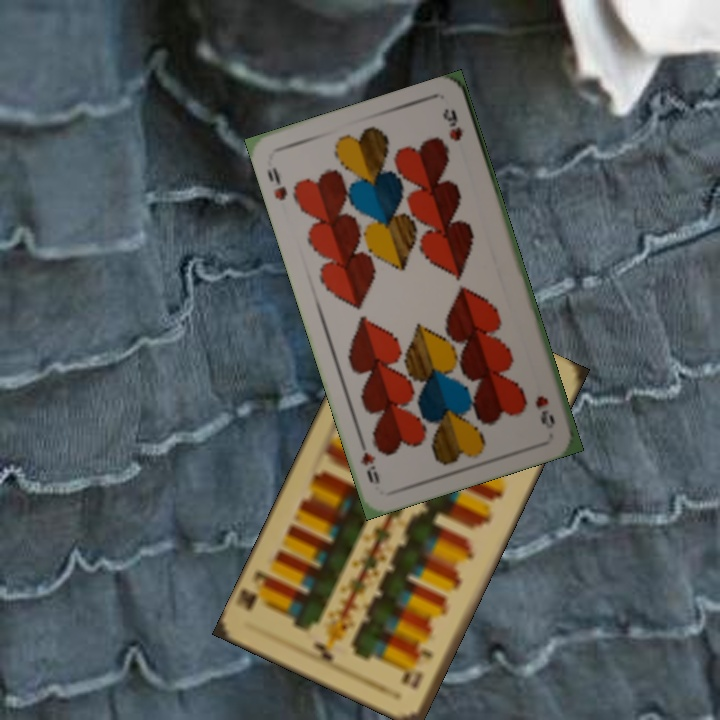E10: (402, 645, 435, 692)
H9: (531, 391, 558, 432), (263, 163, 290, 204)
